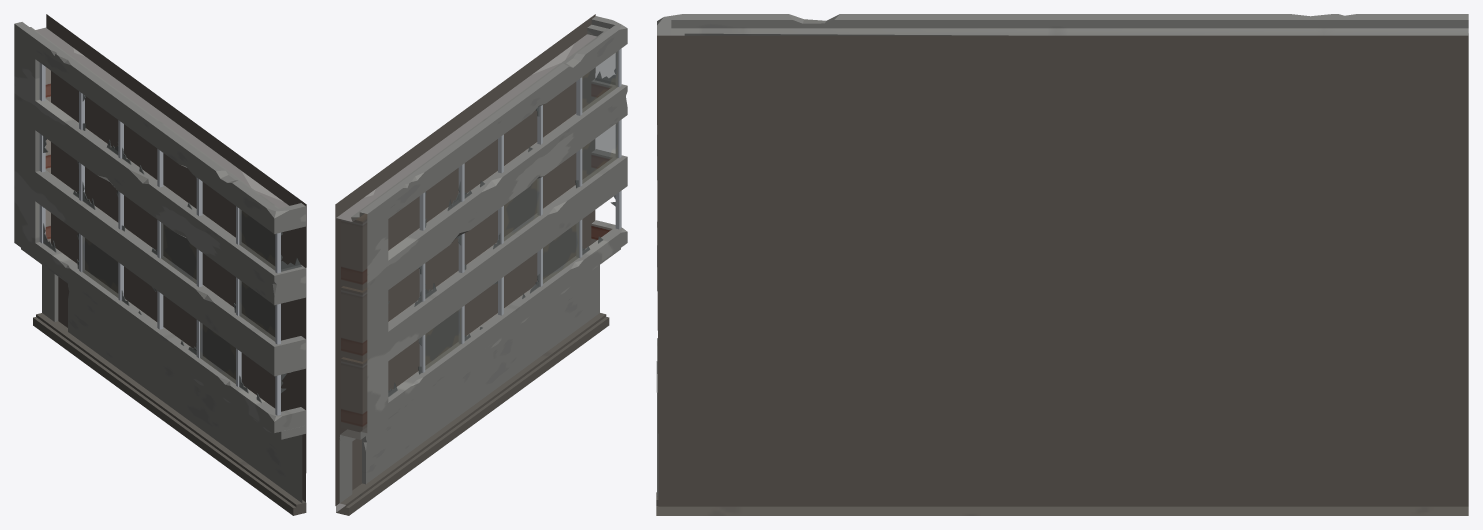
The model's file is Bld_1_Single.fbx.
3 views of the same model, side by side, from view 1: azimuth 30°, elevation 25°; view 2: azimuth 150°, elevation 25°; view 3: azimuth 270°, elevation 25° (orthographic). The views are drawn at different scales.
Visible parts, largest first — view 1: Bld_1_Single; view 2: Bld_1_Single; view 3: Bld_1_Single.
Boxes of the visible parts, x1,y1,x2,y2 form: Bld_1_Single: [14, 14, 306, 515]; Bld_1_Single: [335, 14, 627, 515]; Bld_1_Single: [656, 14, 1468, 515].
Bounding box in the file's own units: 142 × 1300 × 1991.
Materials: 3 (3 with a texture image).
